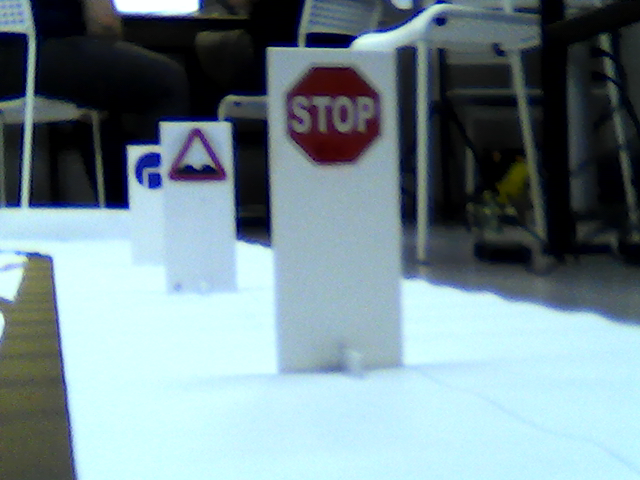Nerov: (168, 126, 227, 182)
Stop: (285, 61, 384, 168)
